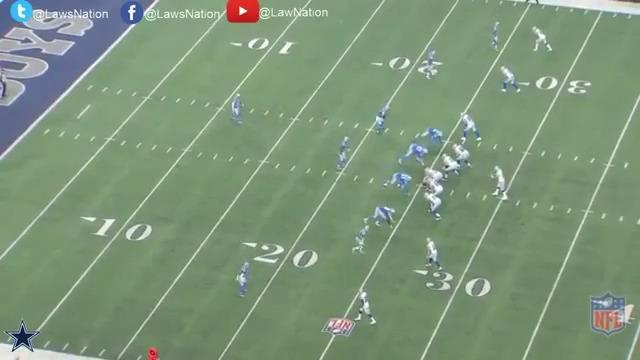player: (354, 287, 377, 329), (424, 237, 445, 275), (461, 112, 485, 145), (364, 205, 398, 228), (383, 173, 414, 198), (397, 144, 429, 168), (500, 64, 523, 96), (491, 163, 510, 201), (529, 25, 553, 55), (418, 126, 446, 151), (236, 259, 252, 301), (350, 223, 369, 257), (337, 134, 353, 174), (424, 191, 444, 222), (421, 47, 438, 82), (452, 143, 472, 170), (374, 105, 391, 136), (231, 92, 245, 127), (442, 155, 461, 180), (426, 177, 445, 200), (489, 20, 502, 52), (423, 167, 444, 186)
ref: (0, 68, 8, 104)
